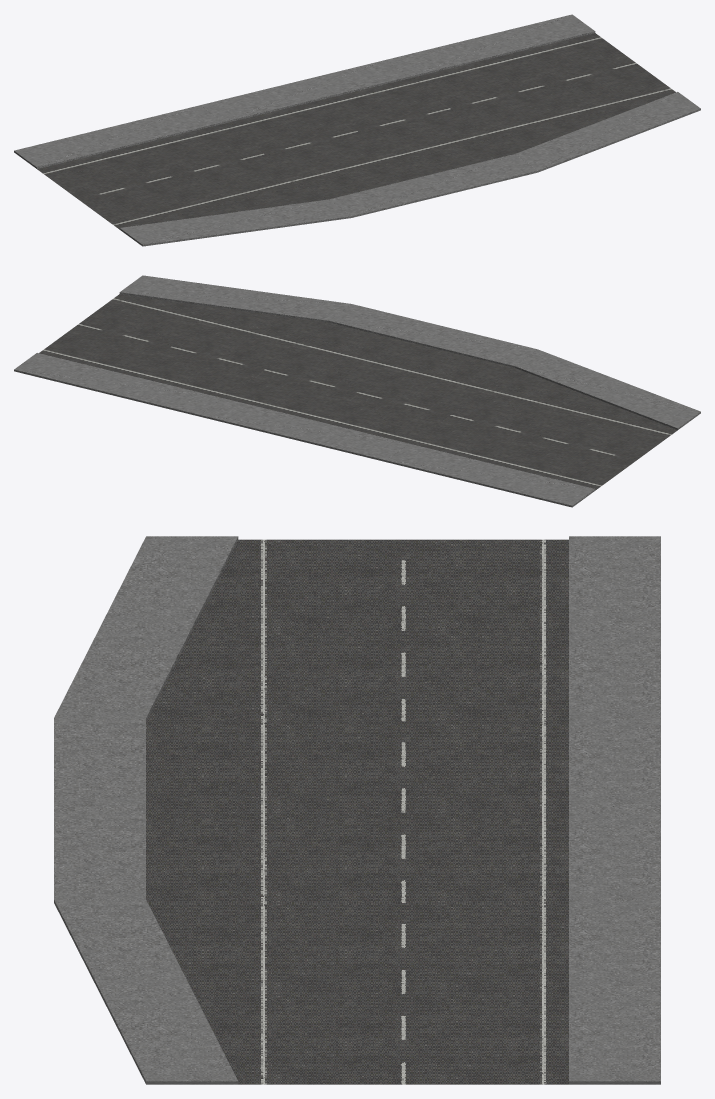
Rendered from Road_Stop.glb.
3 renders of one model, top to bottom at view 1: azimuth 30°, elevation 25°; view 2: azimuth 150°, elevation 25°; view 3: azimuth 270°, elevation 25°, orthographic. The views are drawn at different scales.
Visible parts, largest first — view 1: Road_Stop; view 2: Road_Stop; view 3: Road_Stop.
Part boxes in pixels (x1=…): Road_Stop: x1=14, y1=14, x2=700, y2=246; Road_Stop: x1=14, y1=275, x2=700, y2=507; Road_Stop: x1=54, y1=536, x2=660, y2=1084.
Bounding box in the file's own units: 39 × 0.1182 × 18.36.
Materials: 2 (2 with a texture image).
